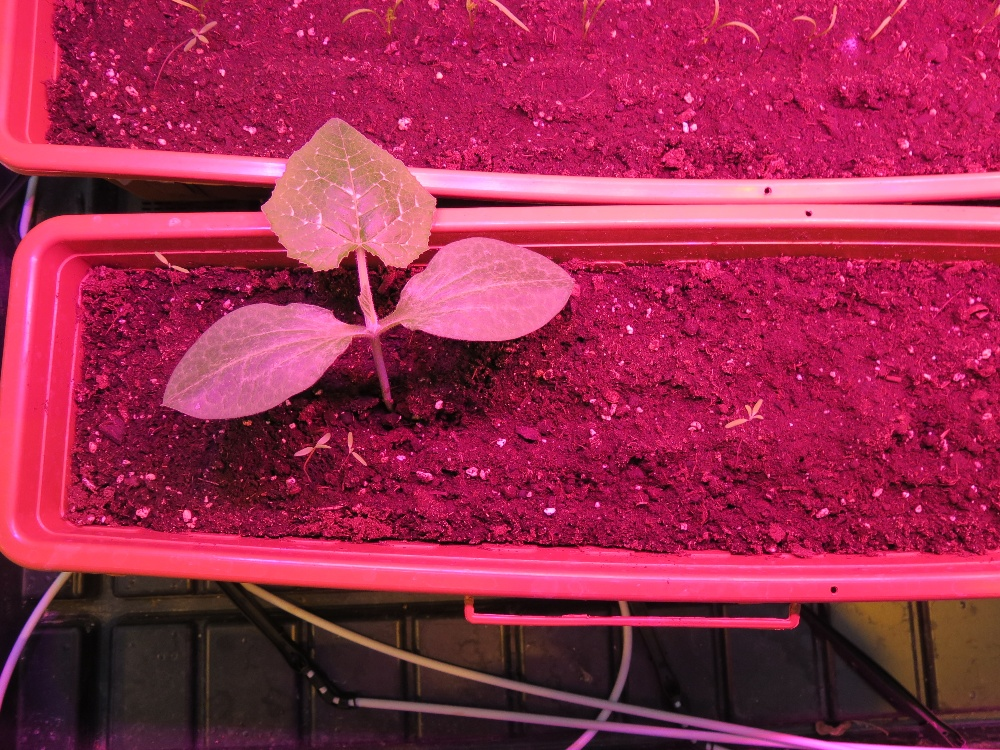crop: (160, 119, 579, 428)
weed: (722, 396, 765, 429), (182, 19, 218, 53), (292, 431, 333, 458), (153, 249, 190, 276), (346, 430, 369, 467)
